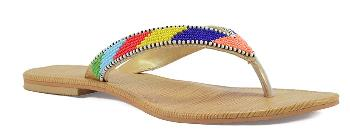Footwear: (15, 20, 343, 128)
